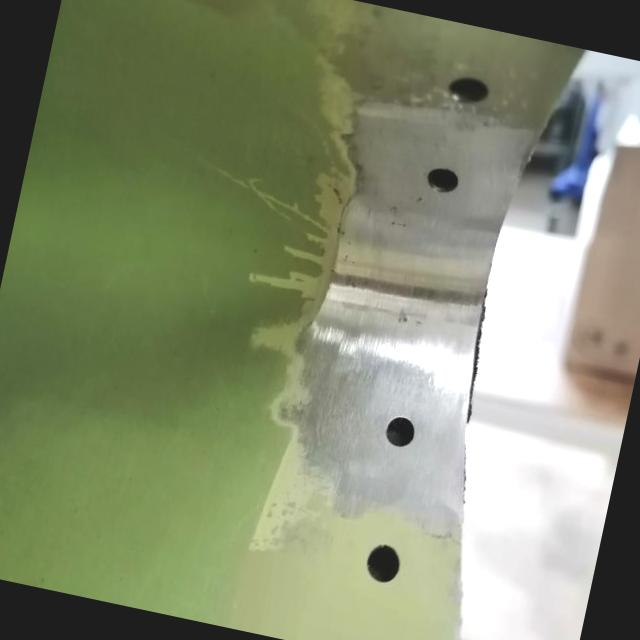Missing Fastener: (433, 52, 503, 121), (355, 526, 420, 597), (410, 142, 474, 212), (368, 400, 428, 458)
